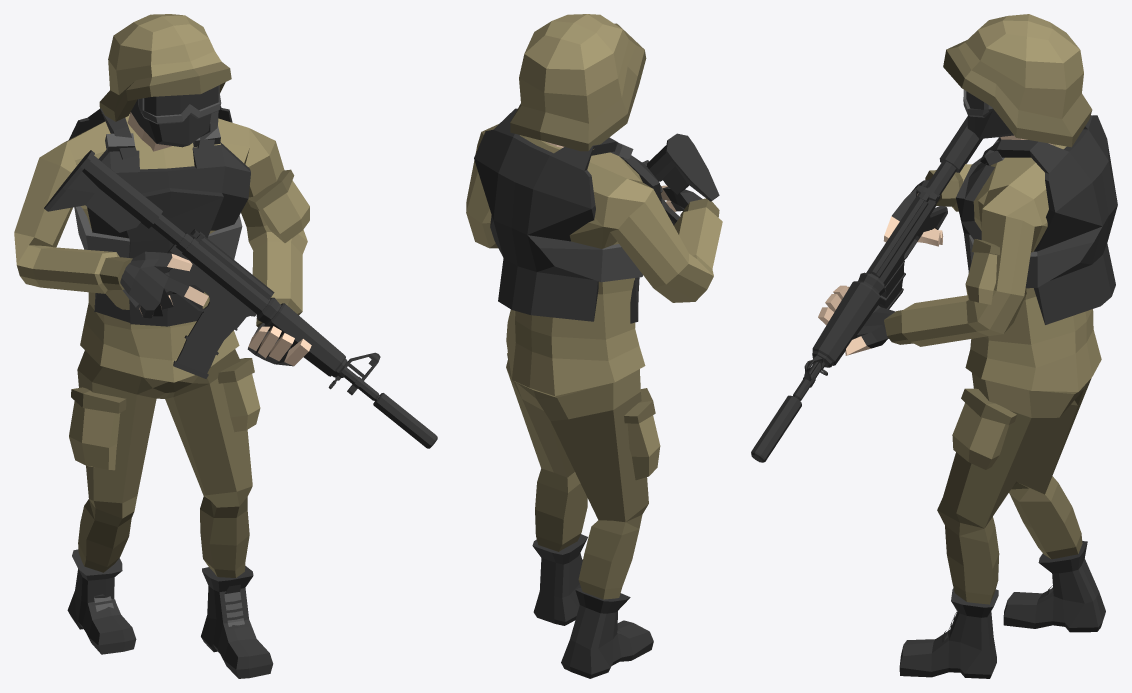
Rendered from Soldier.fbx.
3 views of the same model, side by side, from view 1: azimuth 30°, elevation 25°; view 2: azimuth 150°, elevation 25°; view 3: azimuth 270°, elevation 25° (orthographic).
Visible parts, largest first — view 1: Soldat, M4, M4 Amo; view 2: Soldat, M4; view 3: Soldat, M4, M4 Amo.
Part boxes in pixels (x1=…): Soldat: x1=14, y1=14, x2=311, y2=678; M4: x1=44, y1=150, x2=437, y2=448; M4 Amo: x1=173, y1=311, x2=234, y2=378; Soldat: x1=466, y1=14, x2=722, y2=678; M4: x1=642, y1=133, x2=719, y2=225; Soldat: x1=818, y1=14, x2=1117, y2=678; M4: x1=751, y1=116, x2=982, y2=462; M4 Amo: x1=878, y1=263, x2=905, y2=309.
Size of the model in its own units: 1536 by 3196 by 1681.
